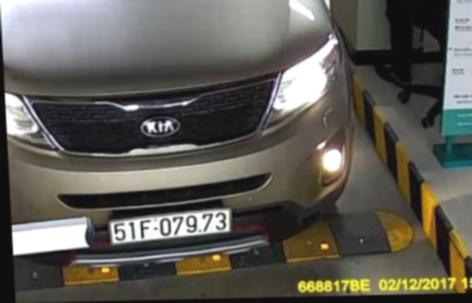License_Plate: (108, 210, 232, 245)
